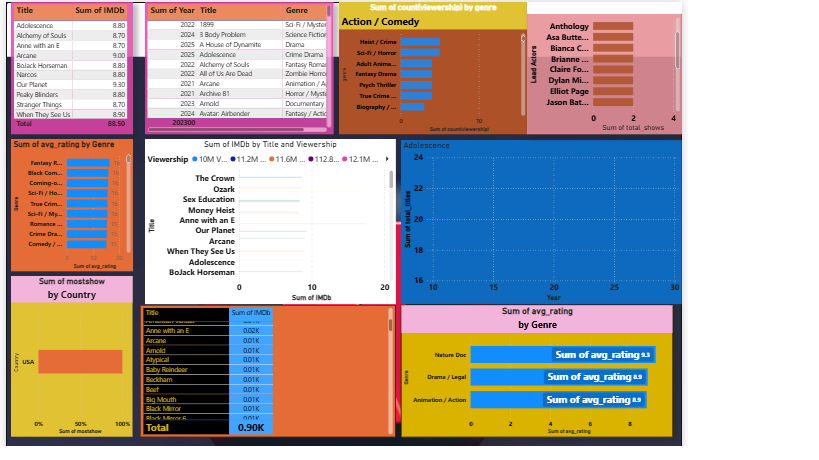

Layout of this report page (visuals, bound fields, positions):
{"tool":"powerbi","page":{"name":"Page 1","canvas":[1380,1280],"ordinal":0},"visuals":[{"type":"tableEx","fields":{"Values":["Query1.Title","Sum(Query1.IMDb)"]},"box":[10.1,0,248.6,270.4],"z":0},{"type":"clusteredBarChart","fields":{"Category":["Query2.Genre"],"Y":["Sum(Query2.avg_rating)"]},"box":[10,280,249,270],"z":1000},{"type":"hundredPercentStackedBarChart","fields":{"Category":["Query3.Country"],"Y":["Sum(Query3.mostshow)"]},"box":[10,560,248.3,328.3],"z":2000},{"type":"tableEx","fields":{"Values":["Sum(Query4.Year)","Query4.Title","Query4.Genre"]},"box":[283.9,0,384.7,270.4],"z":3000},{"type":"clusteredBarChart","fields":{"Category":["Query5.Title"],"Y":["Sum(Query5.IMDb)"],"Series":["Query5.Viewership"]},"box":[283.3,280,511.7,336.7],"z":4000},{"type":"clusteredBarChart","fields":{"Category":["Query6.genre"],"Y":["Sum(Query6.count(viewership))"]},"box":[679,0,385,270],"z":5000},{"type":"lineChart","fields":{"Category":["Query7.Year"],"Y":["Sum(Query7.total_titles)"]},"box":[806.7,281.7,573.3,335],"z":6000},{"type":"tableEx","fields":{"Values":["Query8.Title","Sum(Query8.IMDb)"]},"box":[273.3,618.3,521.7,270],"z":7000},{"type":"clusteredBarChart","fields":{"Category":["Query9.Genre"],"Y":["Sum(Query9.avg_rating)"]},"box":[806.7,618.3,555,270],"z":8000},{"type":"barChart","fields":{"Category":["Query10.Lead Actors"],"Y":["Sum(Query10.total_shows)"]},"box":[1063.3,0,316.7,270],"z":9000}]}

Visuals, with their boxes on the page's 1380x1280 design canvas (x1, y1, x2, y2). These are canvas units, not pixel positions in the 819x460 screenshot, which may show the page scaled, cropped or inside an application window:
tableEx - Query1.Title x Sum(Query1.IMDb): box(10, 0, 259, 270)
clusteredBarChart - Query2.Genre x Sum(Query2.avg_rating): box(10, 280, 259, 550)
hundredPercentStackedBarChart - Query3.Country x Sum(Query3.mostshow): box(10, 560, 258, 888)
tableEx - Sum(Query4.Year) x Query4.Title: box(284, 0, 669, 270)
clusteredBarChart - Query5.Title x Sum(Query5.IMDb): box(283, 280, 795, 617)
clusteredBarChart - Query6.genre x Sum(Query6.count(viewership)): box(679, 0, 1064, 270)
lineChart - Query7.Year x Sum(Query7.total_titles): box(807, 282, 1380, 617)
tableEx - Query8.Title x Sum(Query8.IMDb): box(273, 618, 795, 888)
clusteredBarChart - Query9.Genre x Sum(Query9.avg_rating): box(807, 618, 1362, 888)
barChart - Query10.Lead Actors x Sum(Query10.total_shows): box(1063, 0, 1380, 270)
